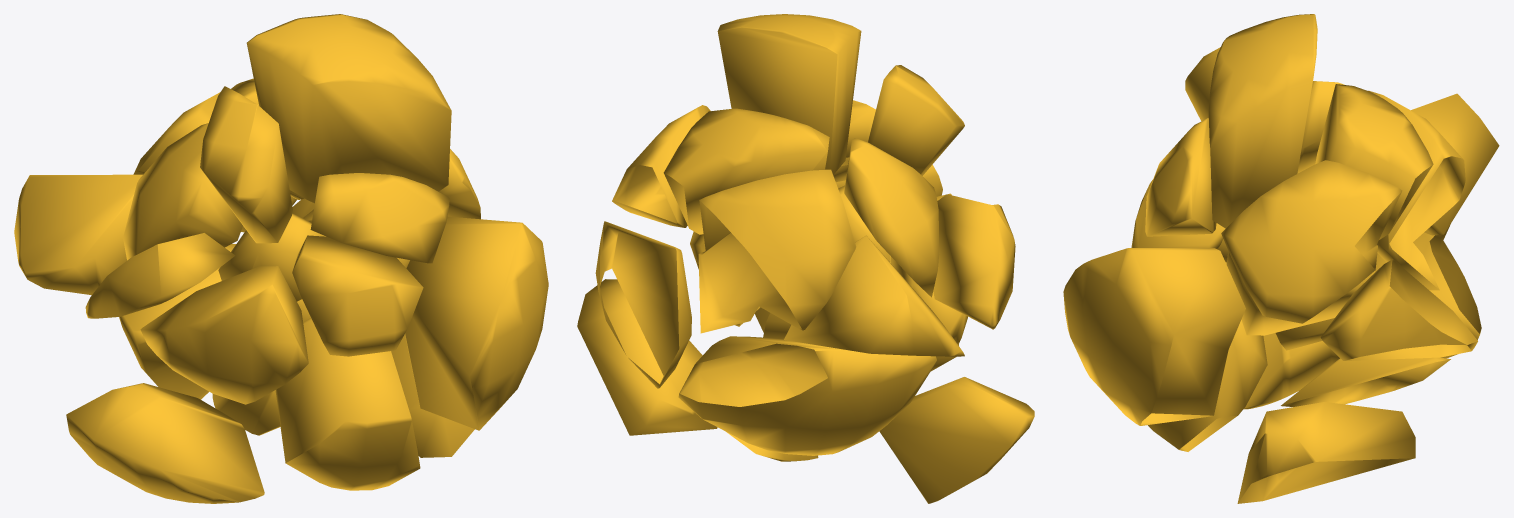
Rendered from abstractball4.glb.
3 views of the same model, side by side, from view 1: azimuth 30°, elevation 25°; view 2: azimuth 150°, elevation 25°; view 3: azimuth 270°, elevation 25° (orthographic). The views are drawn at different scales.
Visible parts, largest first — view 1: Voronoi_Fracture.4; view 2: Voronoi_Fracture.4; view 3: Voronoi_Fracture.4.
Boxes of the visible parts, x1,y1,x2,y2 form: Voronoi_Fracture.4: [14, 14, 548, 503]; Voronoi_Fracture.4: [577, 14, 1034, 503]; Voronoi_Fracture.4: [1063, 14, 1499, 503].
Size of what is drawn, in the model's own units: 5.08 by 4.79 by 4.43.
1 material, 1 textured.
